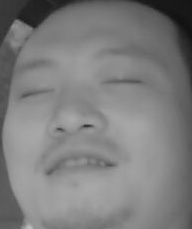blink: (102, 70, 141, 95), (22, 80, 57, 102)
mouth: (40, 146, 118, 182)
